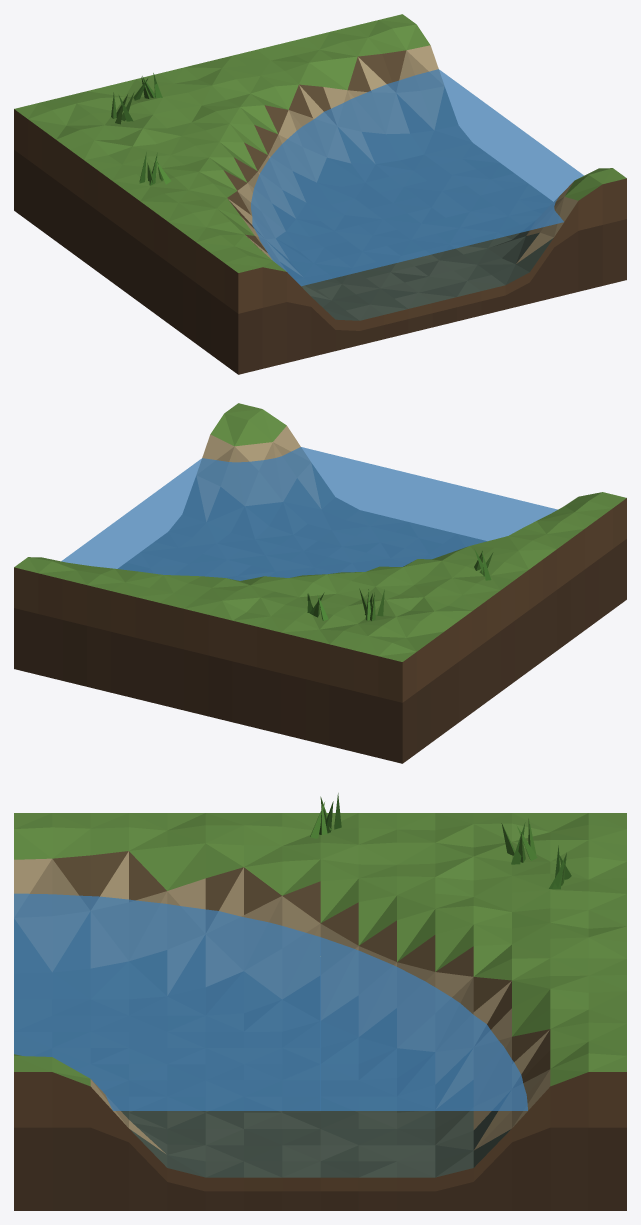
The model's file is river_corner.glb.
3 renders of one model, top to bottom at view 1: azimuth 30°, elevation 25°; view 2: azimuth 150°, elevation 25°; view 3: azimuth 270°, elevation 25°, orthographic. The views are drawn at different scales.
Parts seen in each view (by area): view 1: RiverCorner; view 2: RiverCorner; view 3: RiverCorner.
Boxes of the visible parts, x1=… form: RiverCorner: x1=14, y1=14, x2=626, y2=374; RiverCorner: x1=14, y1=403, x2=626, y2=763; RiverCorner: x1=14, y1=793, x2=626, y2=1210.
Bounding box in the file's own units: 2 × 0.6396 × 2.
